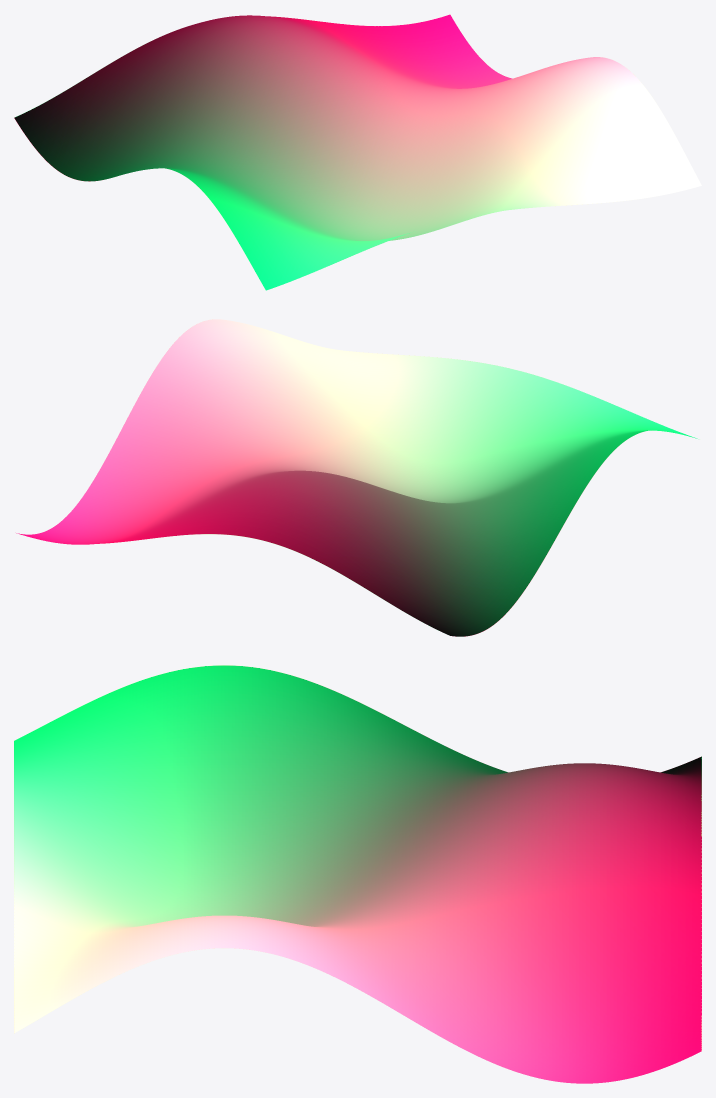
The model's file is heavy-02.glb.
The picture shows the model from 3 angles, top to bottom: view 1: azimuth 30°, elevation 25°; view 2: azimuth 150°, elevation 25°; view 3: azimuth 270°, elevation 25°; orthographic projection. The views are drawn at different scales.
Size of the model in its own units: 8 by 1.8 by 8.
1 material, 1 textured.
